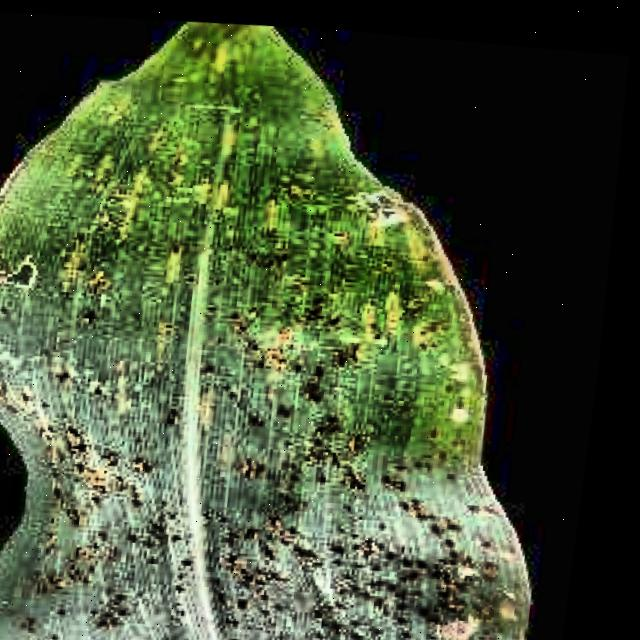common_rust: (0, 349, 594, 640)
